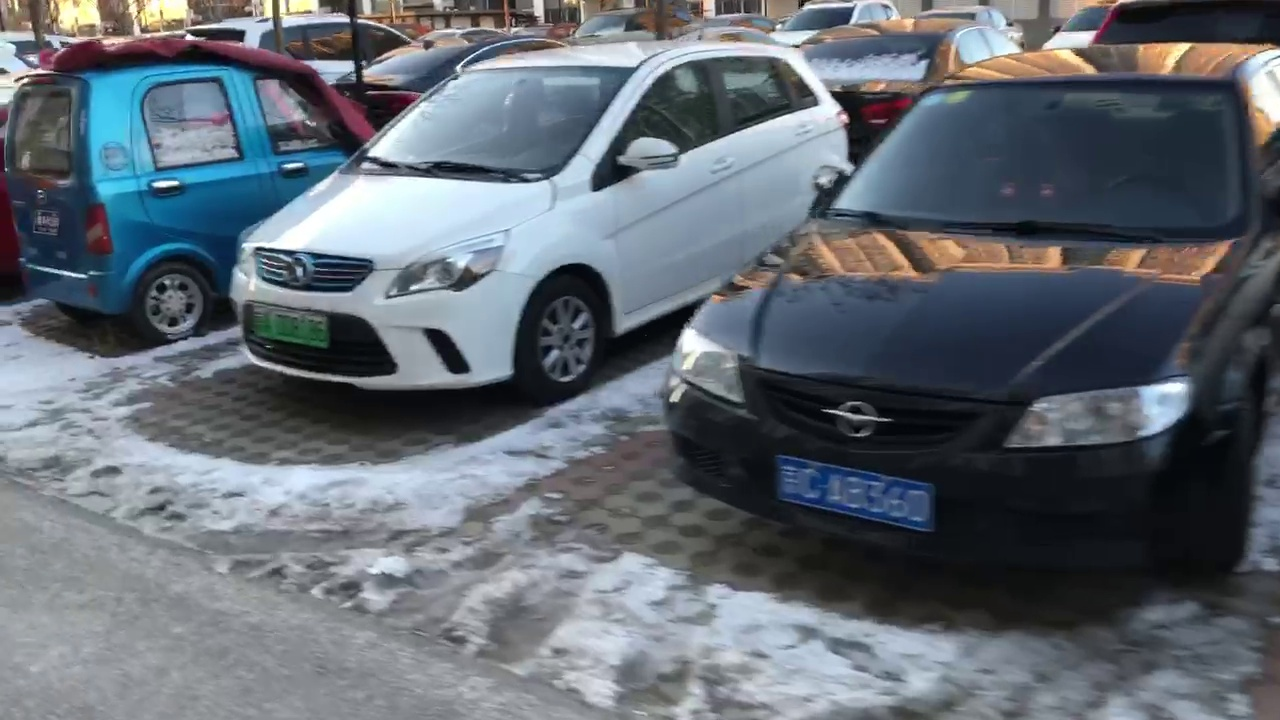plate: (780, 467, 932, 534), (250, 302, 331, 349)
